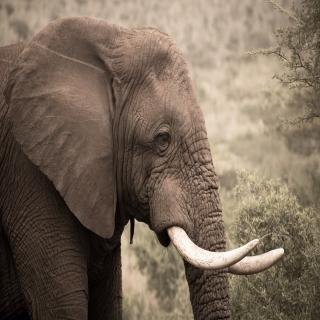Elephant: (0, 14, 289, 320)
